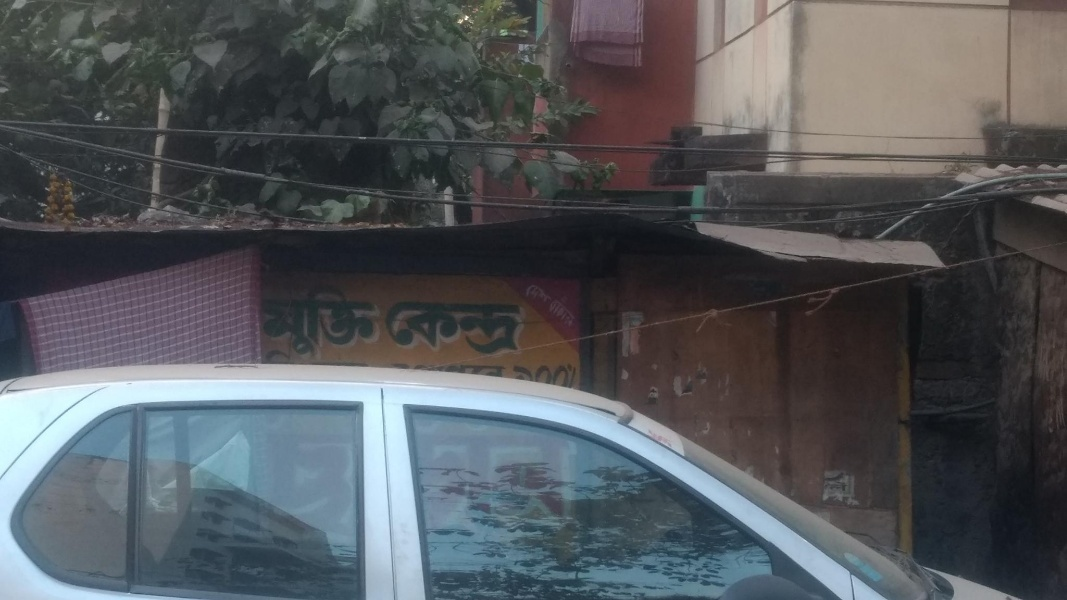text: (273, 283, 288, 365), (289, 283, 304, 365), (305, 283, 320, 365), (321, 283, 336, 365), (337, 283, 352, 365), (353, 283, 368, 365), (369, 283, 382, 365), (545, 269, 560, 338), (561, 269, 576, 338), (260, 283, 272, 365), (401, 301, 416, 360), (417, 301, 432, 360), (433, 301, 448, 360), (449, 301, 464, 360), (465, 301, 480, 360), (481, 301, 496, 360), (497, 301, 512, 360), (513, 301, 527, 360), (388, 301, 400, 360), (538, 269, 544, 338), (465, 362, 480, 389), (481, 362, 496, 389), (497, 362, 512, 389), (513, 362, 528, 389), (529, 362, 544, 389), (545, 362, 560, 389), (561, 362, 576, 389), (452, 362, 464, 389), (577, 269, 580, 338), (577, 362, 583, 389)
